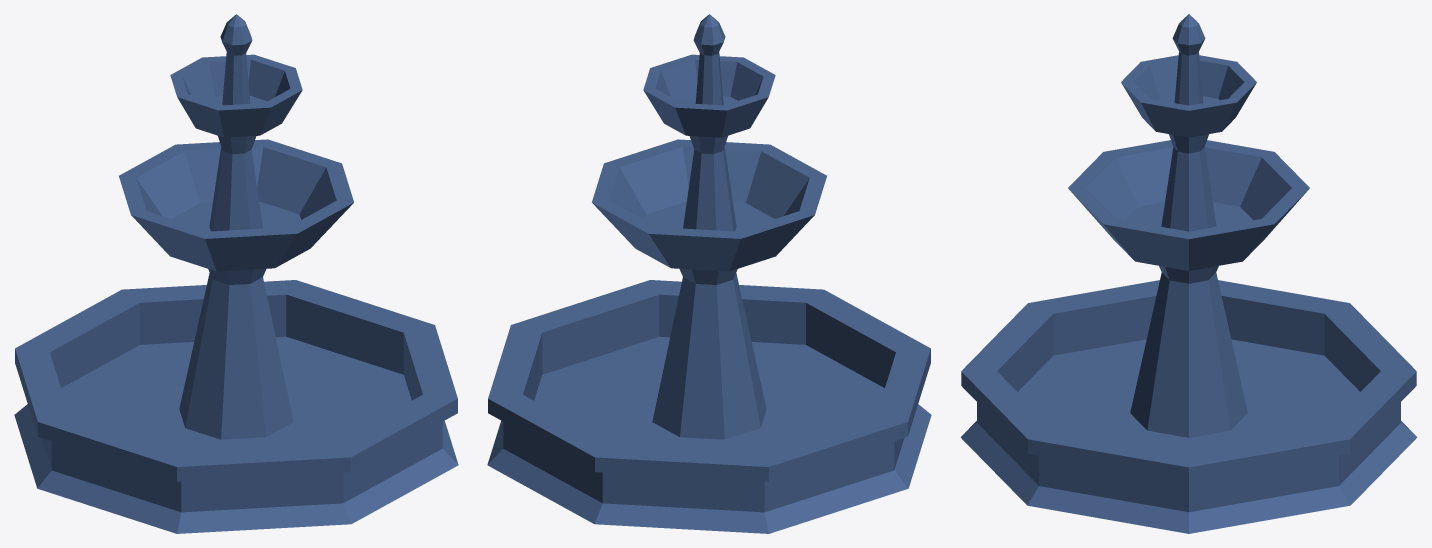
File: Fountain_Model.fbx
The picture shows the model from 3 angles, left to right: view 1: azimuth 30°, elevation 25°; view 2: azimuth 150°, elevation 25°; view 3: azimuth 270°, elevation 25°; orthographic projection.
Parts seen in each view (by area): view 1: Fountain.001; view 2: Fountain.001; view 3: Fountain.001.
Part boxes in pixels (x1,y1,x2,y2): Fountain.001: (14, 14, 458, 533); Fountain.001: (487, 14, 931, 533); Fountain.001: (960, 14, 1417, 533).
Bounding box in the file's own units: 468 × 478 × 468.
